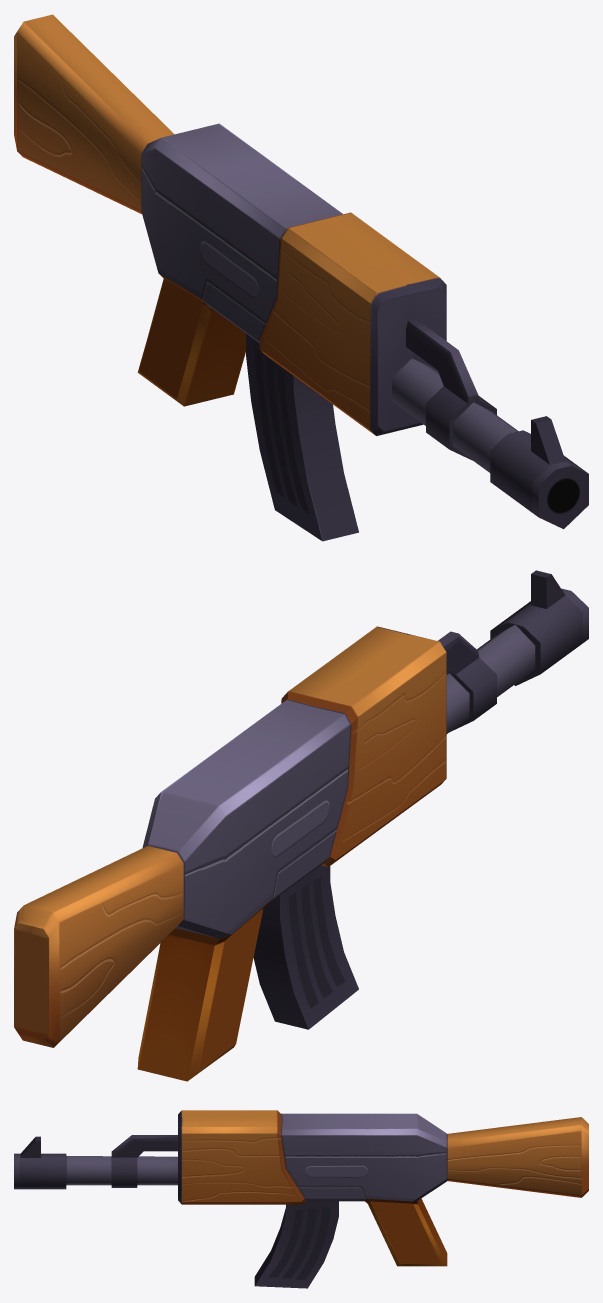
Rendered from KalashGun.fbx.
The picture shows the model from 3 angles, top to bottom: view 1: azimuth 30°, elevation 25°; view 2: azimuth 150°, elevation 25°; view 3: azimuth 270°, elevation 25°; orthographic projection. The views are drawn at different scales.
Parts seen in each view (by area): view 1: KalashModel; view 2: KalashModel; view 3: KalashModel.
Part boxes in pixels (left/top/right/bottom): KalashModel: left=14, top=14, right=588, bottom=541; KalashModel: left=14, top=570, right=588, bottom=1081; KalashModel: left=14, top=1110, right=588, bottom=1288.
Bounding box in the file's own units: 14.36 × 55.26 × 174.
